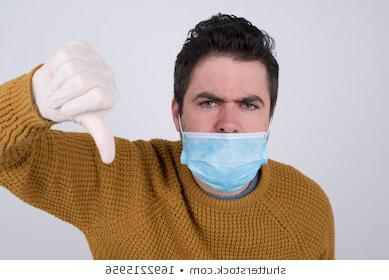mask_weared_incorrect: (183, 82, 269, 193)
